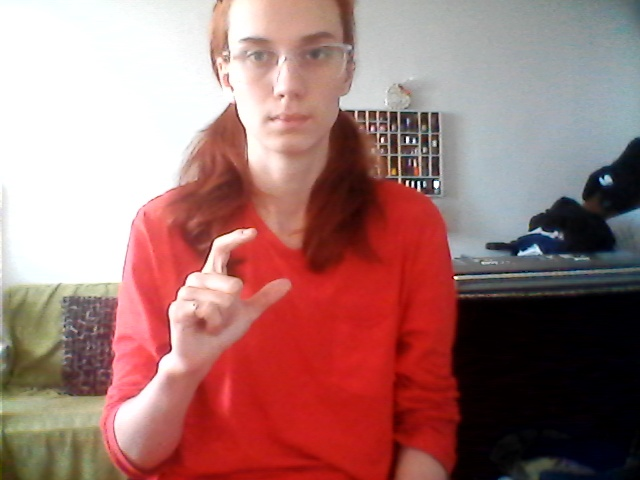c: (163, 226, 296, 360)
